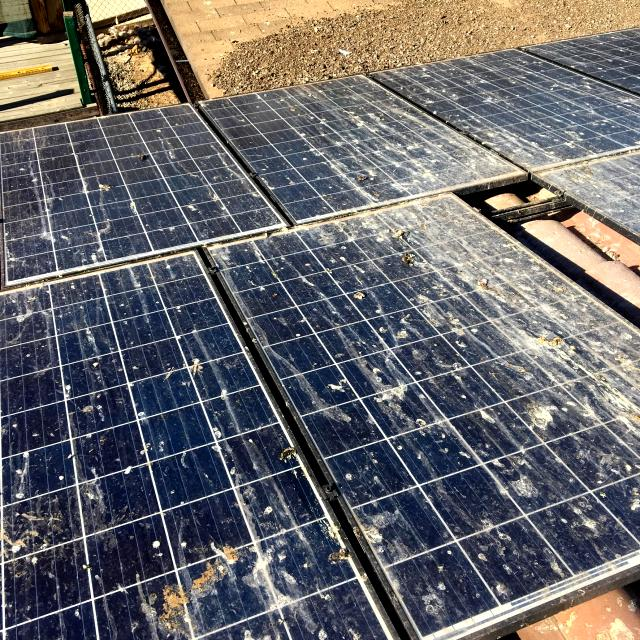bird: (151, 528, 247, 620), (361, 362, 448, 436), (410, 550, 472, 619), (581, 368, 640, 435), (0, 512, 60, 576), (400, 126, 471, 178), (488, 465, 552, 517), (520, 316, 586, 366), (60, 366, 111, 426), (295, 112, 350, 164), (562, 499, 612, 556), (172, 328, 210, 390), (73, 474, 115, 530), (518, 380, 556, 438), (469, 271, 524, 309), (86, 160, 120, 210), (542, 114, 601, 142), (561, 164, 613, 194), (278, 439, 300, 507), (375, 222, 423, 253), (346, 278, 378, 324), (321, 542, 364, 576), (132, 141, 170, 176), (386, 254, 444, 271)
